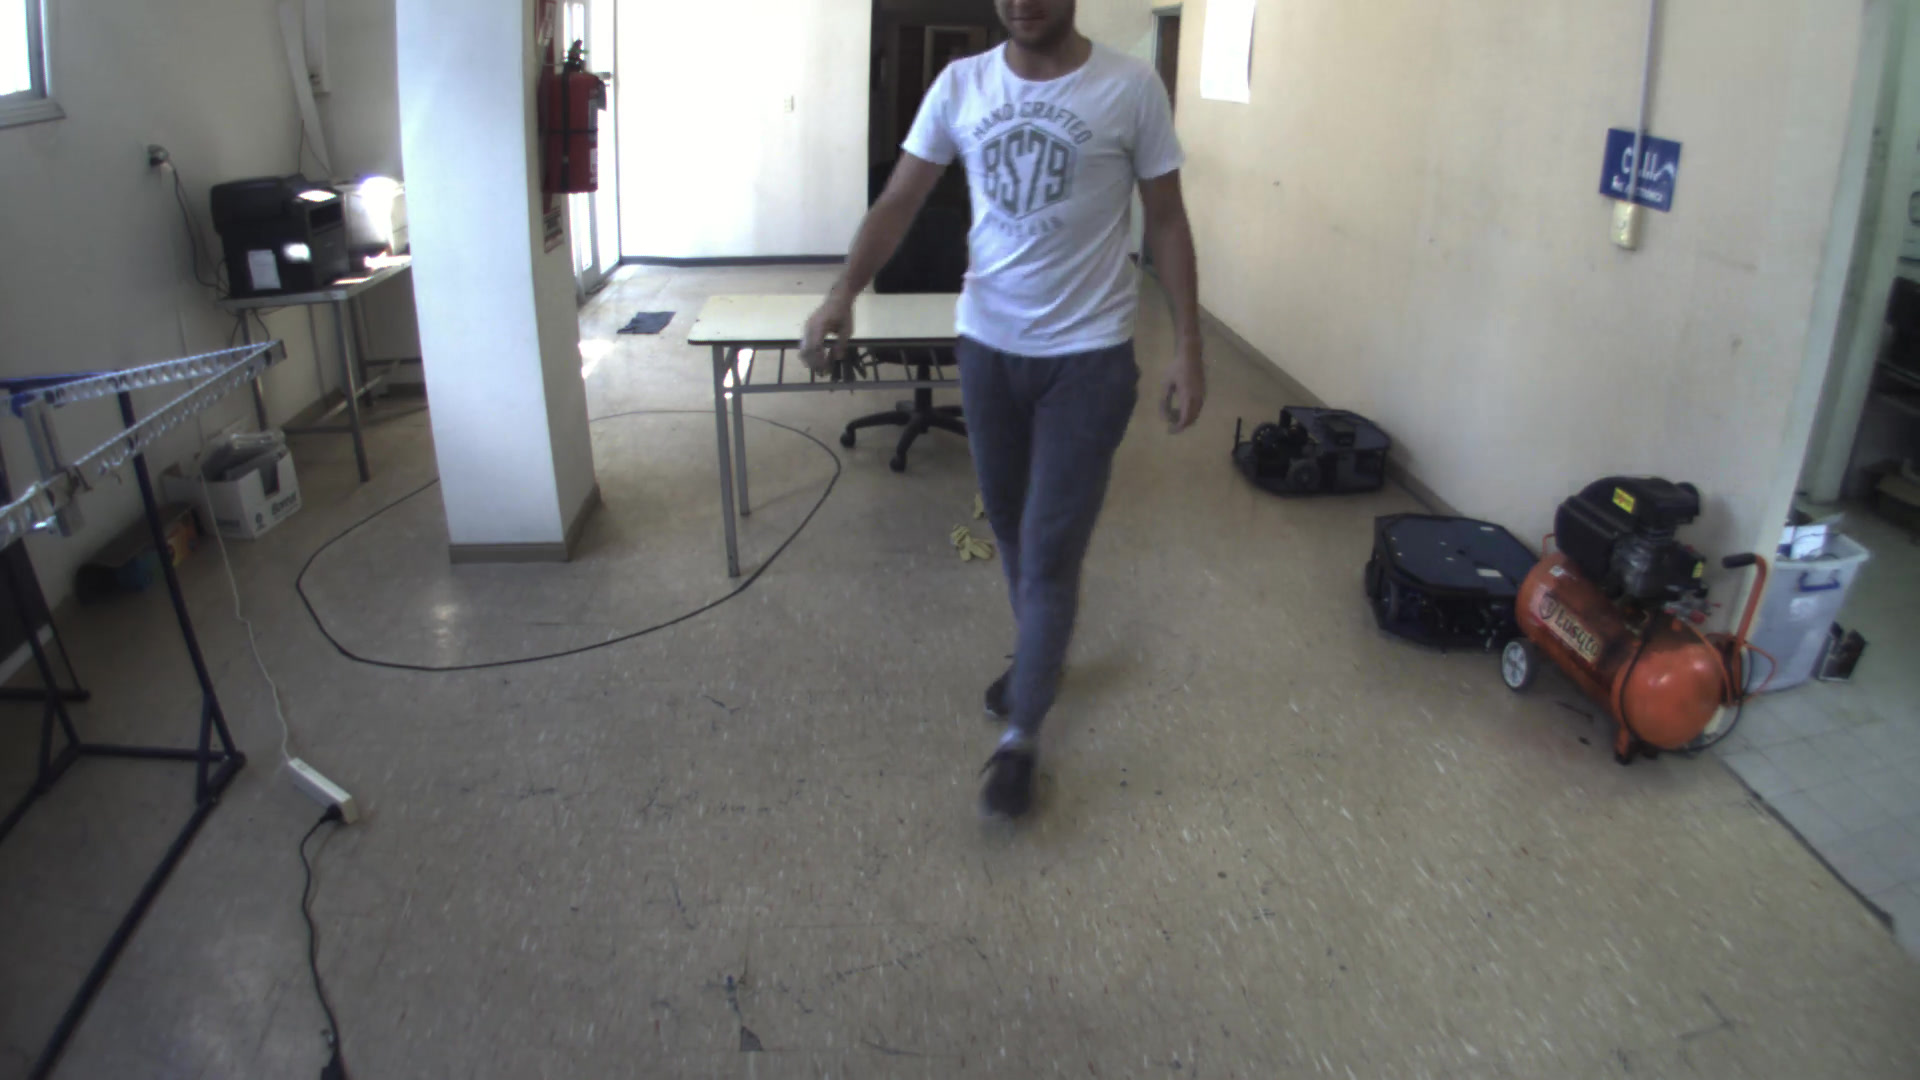hand: (791, 284, 866, 389), (1156, 344, 1222, 440)
